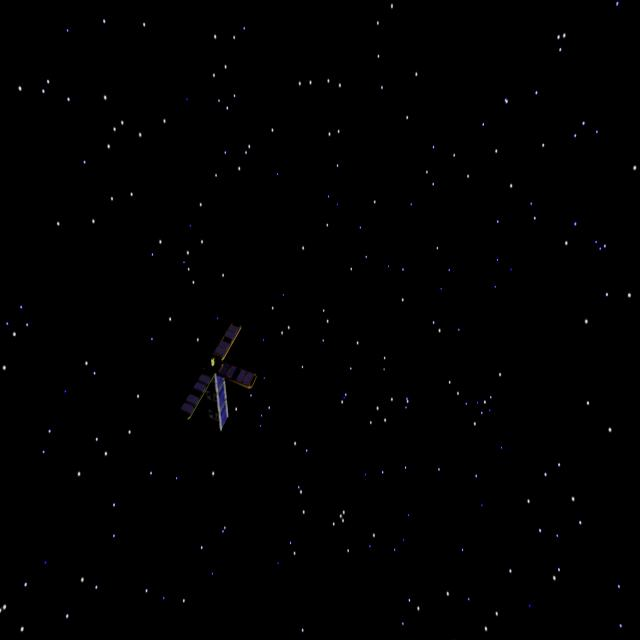medium_debris: (179, 316, 260, 441)
